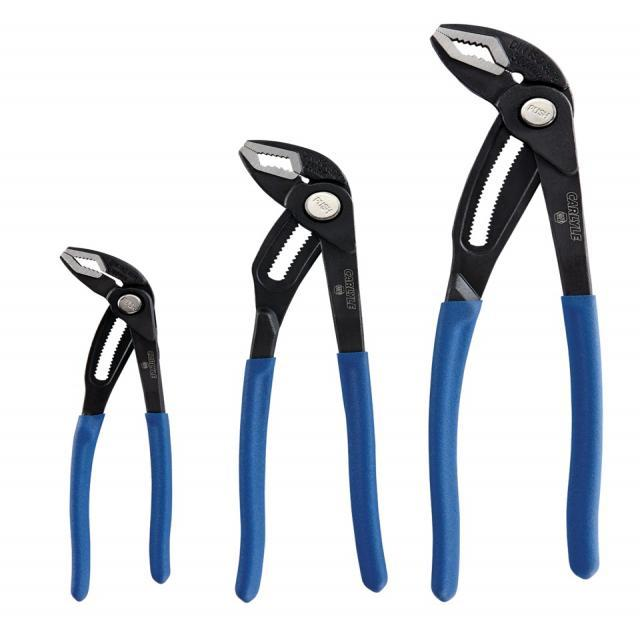pliers: (416, 19, 607, 606), (222, 132, 395, 606), (51, 238, 180, 606)
